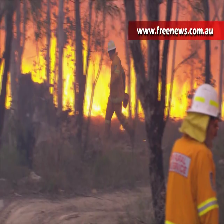fire_h: (1, 32, 197, 119)
fire_l: (119, 123, 125, 131)
